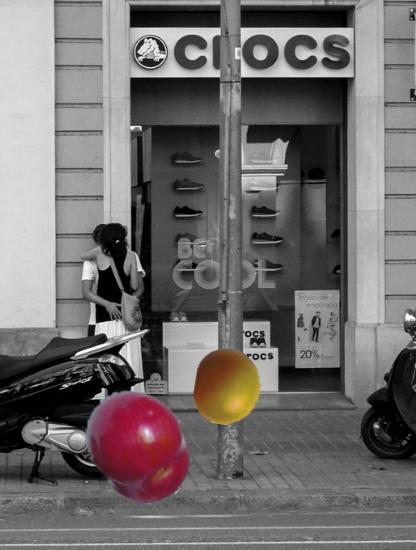Cherry: (79, 386, 199, 506), (190, 349, 266, 425)
